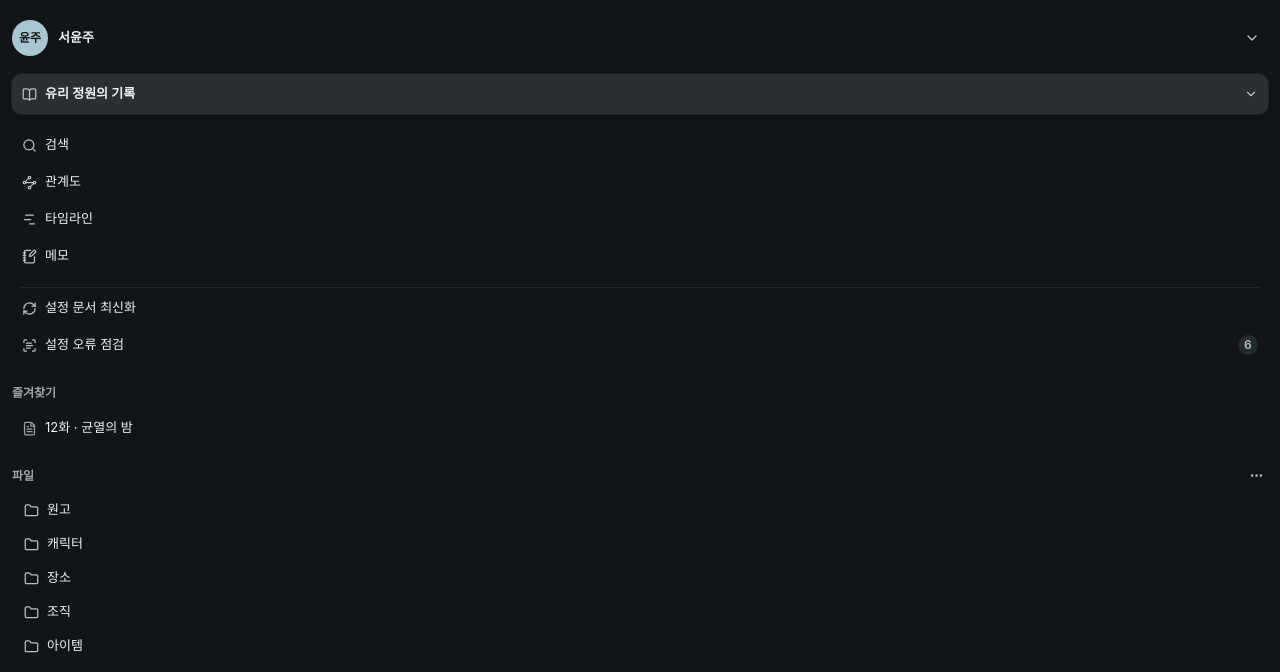
Test: file tree locks › marks locked documents and says when a refresh lock lifts
The width and height of the screenshot is (1280, 672).
Click the list item "캐릭터" at (53, 543), box [24, 535, 83, 552]
(page scrolled)
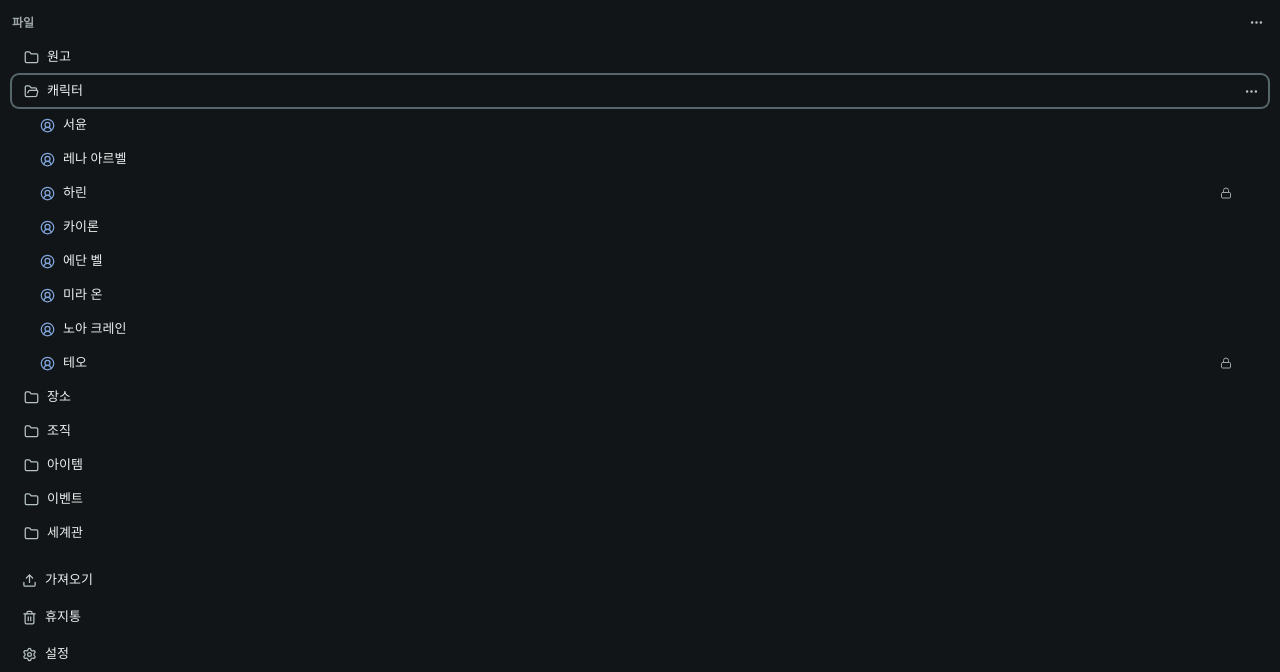
Result: the picture named "설정 문서 최신화로 잠김" is shown at [1220, 187, 1232, 199]
Result: the picture named "잠김" is shown at [1220, 357, 1232, 369]
